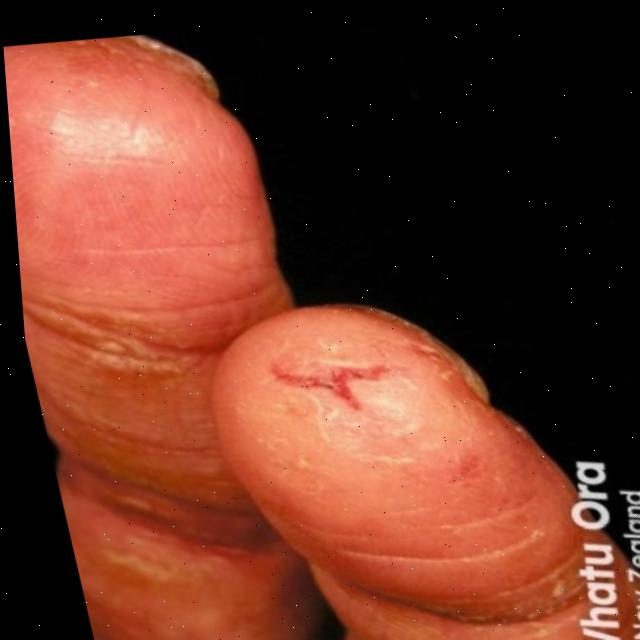Eczema: (276, 320, 409, 440), (64, 304, 195, 396), (95, 493, 196, 598)
